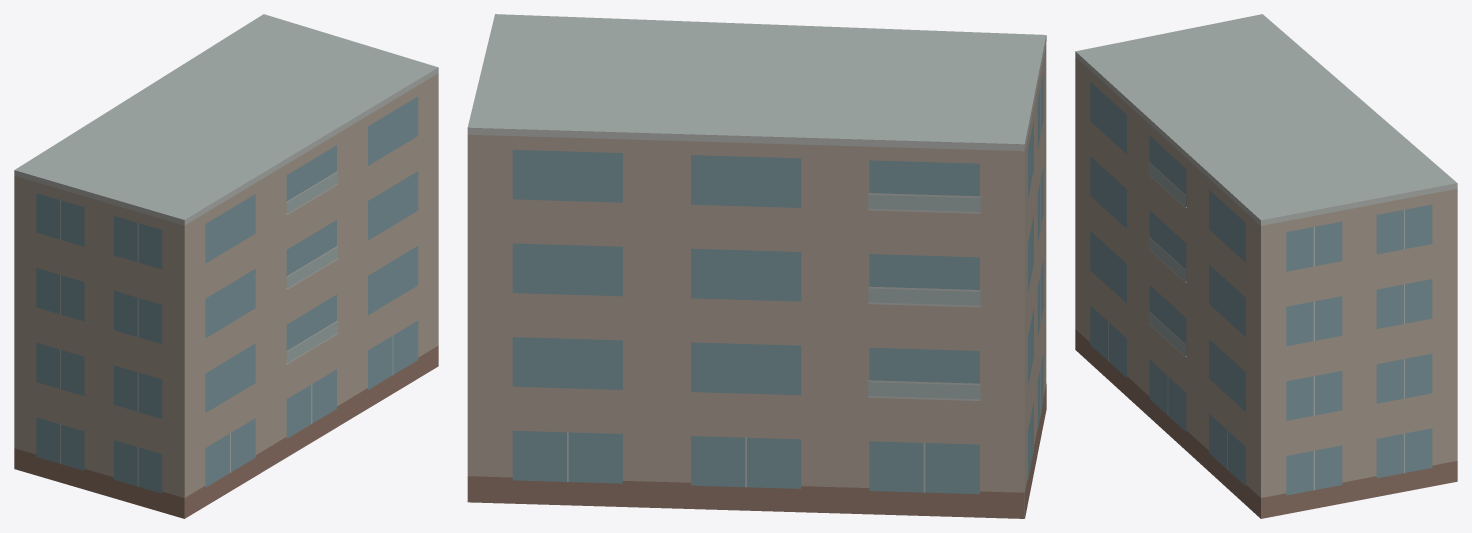
File: survey-upis-32754874.glb
The picture shows the model from 3 angles, left to right: view 1: azimuth 30°, elevation 25°; view 2: azimuth 150°, elevation 25°; view 3: azimuth 270°, elevation 25°; orthographic projection. The views are drawn at different scales.
Visible parts, largest first — view 1: survey-upis-32754874.tmp; view 2: survey-upis-32754874.tmp; view 3: survey-upis-32754874.tmp.
Boxes of the visible parts, x1,y1,x2,y2 form: survey-upis-32754874.tmp: (14,14,438,518); survey-upis-32754874.tmp: (467,14,1046,518); survey-upis-32754874.tmp: (1075,14,1457,518).
Size of the model in its own units: 19.44 by 13.1 by 15.21.
